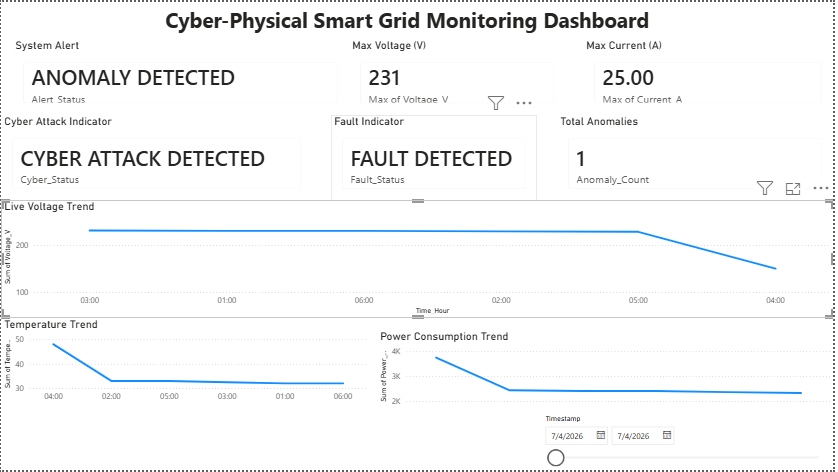

The dashboard page shown, as its layout file describes it:
{"tool":"powerbi","page":{"name":"Page 1","canvas":[1280,720],"ordinal":0},"visuals":[{"type":"lineChart","title":"Live Voltage Trend","fields":{"Y":["Sum(smartgriddb sensor_logs.Voltage_V)"],"Category":["smartgriddb sensor_logs.Time_Hour"]},"box":[0,304.8,1281,181],"z":0},{"type":"cardVisual","title":"Max Voltage (V)","fields":{"Data":["Max(smartgriddb sensor_logs.Voltage_V)"]},"box":[535.7,57.1,333.3,116.7],"z":1},{"type":"cardVisual","title":"Max Current (A)","fields":{"Data":["Max(smartgriddb sensor_logs.Current_A)"]},"box":[895.2,57.1,385.7,116.7],"z":2},{"type":"cardVisual","title":"System Alert","fields":{"Data":["smartgriddb sensor_logs.Alert_Status"]},"box":[16.7,57.1,519,116.7],"z":3},{"type":"cardVisual","title":"Fault Indicator","fields":{"Data":["smartgriddb sensor_logs.Fault_Status"]},"box":[507.4,174.1,316.7,131.5],"z":4},{"type":"cardVisual","title":"Cyber Attack Indicator","fields":{"Data":["smartgriddb sensor_logs.Cyber_Status"]},"box":[0,173.8,478.6,131],"z":5},{"type":"lineChart","title":"Temperature Trend","fields":{"Category":["smartgriddb sensor_logs.Time_Hour"],"Y":["Sum(smartgriddb sensor_logs.Temperature_C)"]},"box":[0,485.7,566.7,138.1],"z":6},{"type":"lineChart","title":"Power Consumption Trend","fields":{"Category":["smartgriddb sensor_logs.Time_Hour"],"Y":["Sum(smartgriddb sensor_logs.Power_W)"]},"box":[578.6,504.8,702.4,123.8],"z":7},{"type":"slicer","fields":{"Values":["smartgriddb sensor_logs.Timestamp"]},"box":[824.1,629.6,455.6,90.7],"z":8},{"type":"textbox","box":[247.6,0,785.7,57.1],"z":9},{"type":"cardVisual","title":"Total Anomalies","fields":{"Data":["smartgriddb sensor_logs.Anomaly_Count"]},"box":[855.6,174.1,424.1,131.5],"z":10}]}

Visuals, with their boxes in screenshot pixels (x1, y1, x2, y2), scaled from the page's 1280x720 canvas onto the 838x472 screenshot:
"Live Voltage Trend" lineChart: x1=0, y1=200, x2=837, y2=318
"Max Voltage (V)" cardVisual: x1=351, y1=37, x2=569, y2=114
"Max Current (A)" cardVisual: x1=586, y1=37, x2=837, y2=114
"System Alert" cardVisual: x1=11, y1=37, x2=351, y2=114
"Fault Indicator" cardVisual: x1=332, y1=114, x2=540, y2=200
"Cyber Attack Indicator" cardVisual: x1=0, y1=114, x2=313, y2=200
"Temperature Trend" lineChart: x1=0, y1=318, x2=371, y2=409
"Power Consumption Trend" lineChart: x1=379, y1=331, x2=837, y2=412
slicer - smartgriddb sensor_logs.Timestamp: x1=540, y1=413, x2=837, y2=471
textbox: x1=162, y1=0, x2=676, y2=37
"Total Anomalies" cardVisual: x1=560, y1=114, x2=837, y2=200
